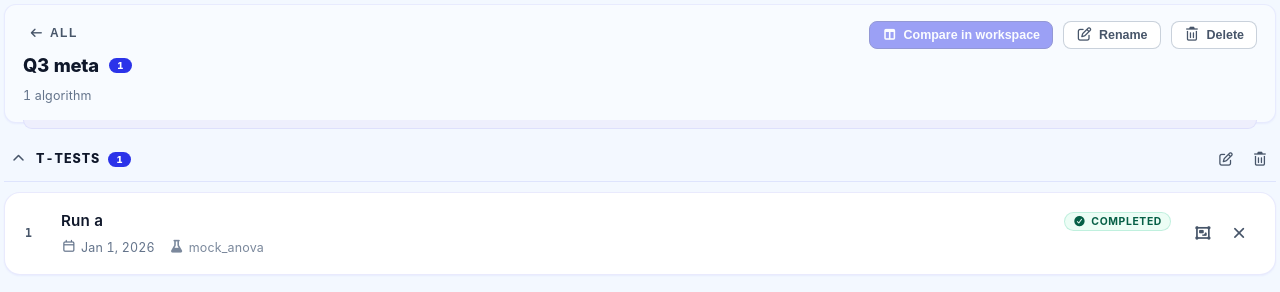
Test: ExperimentFolderComponent › sets › renames a set from its heading
Step 1. Click the 1st button with class "icon-btn" → x=1226, y=159, box [1210,143,1242,175]
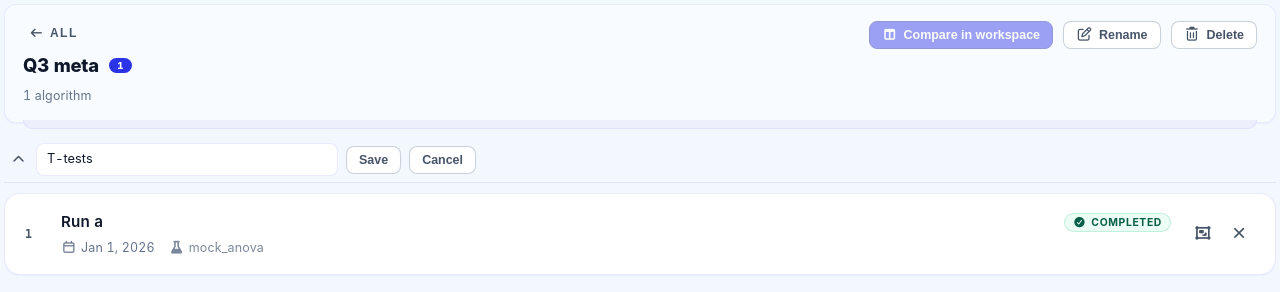
Step 2. Replace the text in the field with class "member-group-rename-input" with "Age tests" → x=187, y=160, box [36,143,338,176]
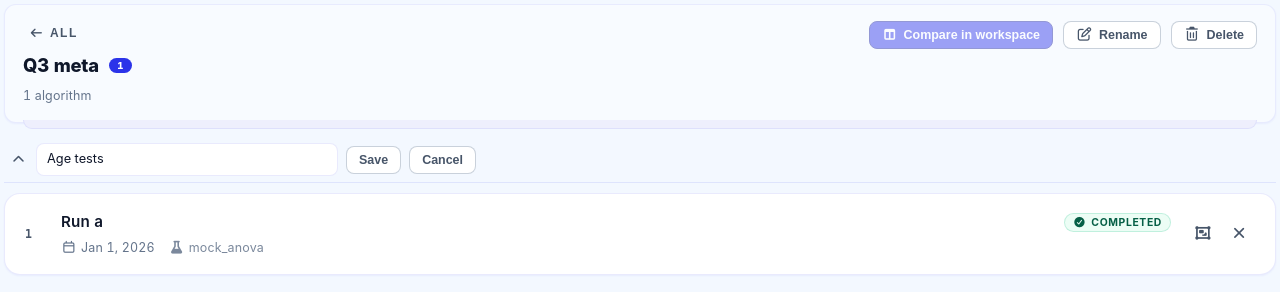
Step 3. Press Enter in the field with class "member-group-rename-input", box [36,143,338,176]
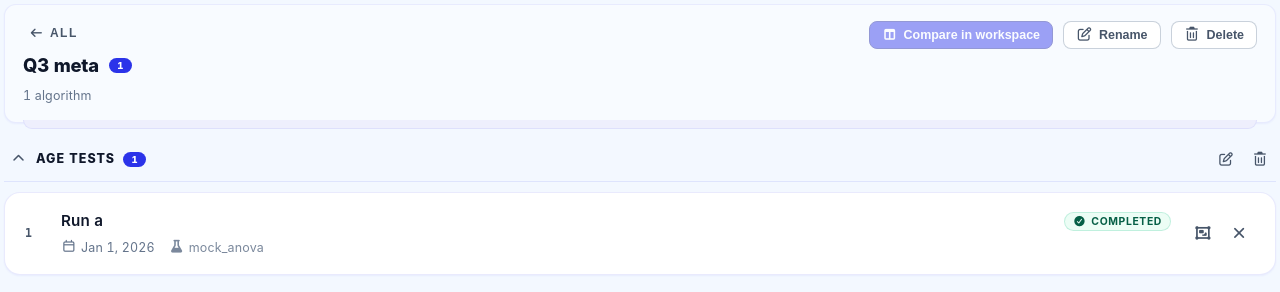
Expected: the heading with class "member-group-name" reads "Age tests", [36,151,115,166]
